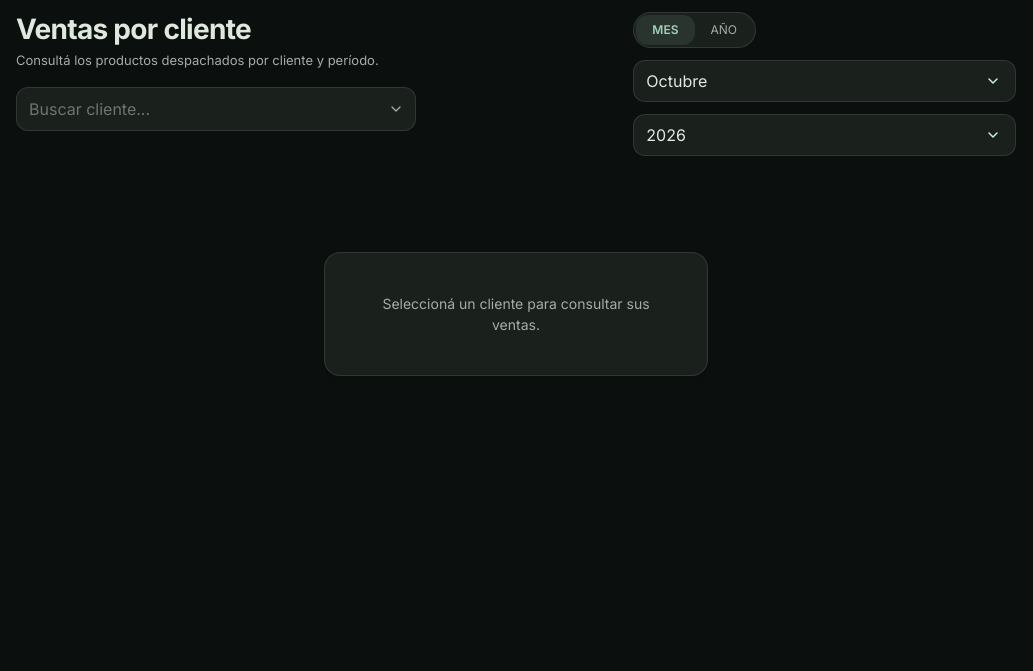
Test: VentasPage › shows nombre only when cuit is null
The width and height of the screenshot is (1033, 671).
Step 1. Click the dropdown with placeholder "Buscar cliente..." → (216,108), box [16,86,416,130]
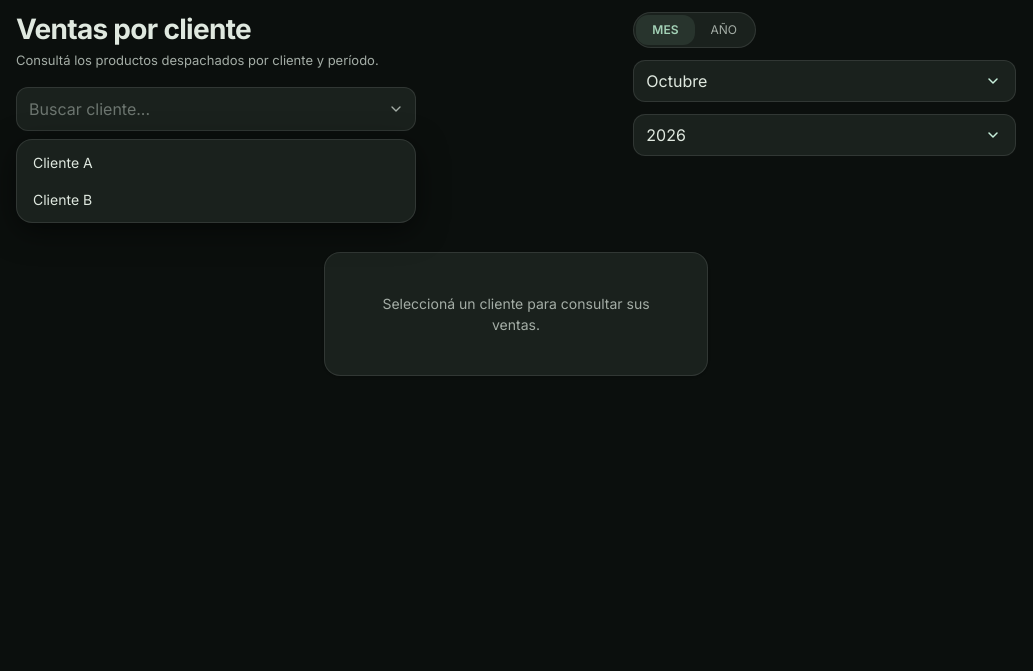
Step 2. Click the option "Cliente A" → (63,162), box [21,144,411,180]
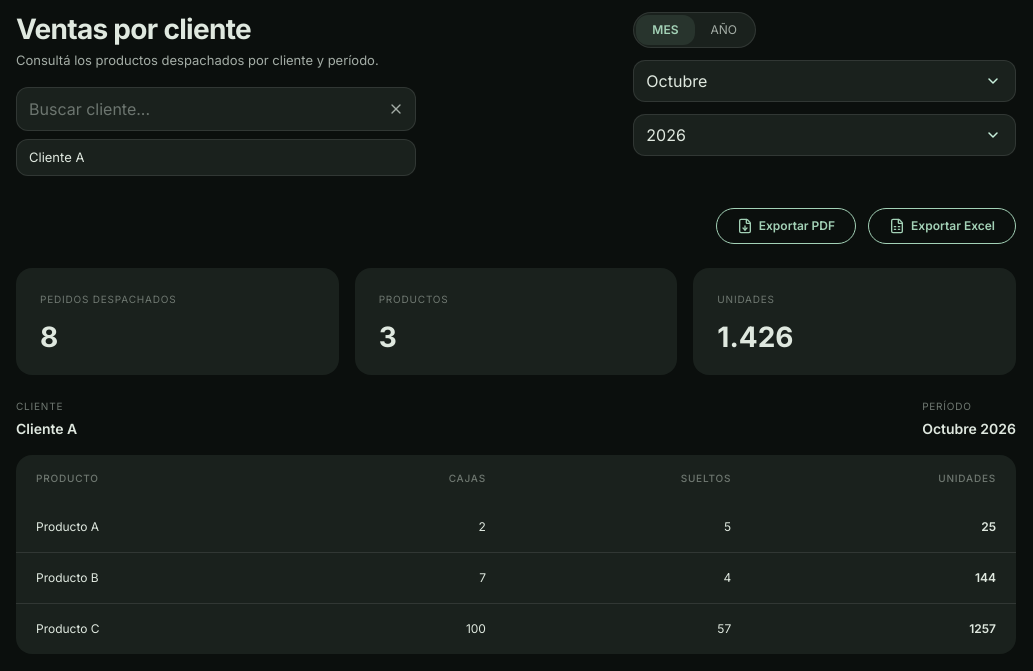
Check: the element with test id "cliente-chip" reads "Cliente A", box [29,148,84,164]
